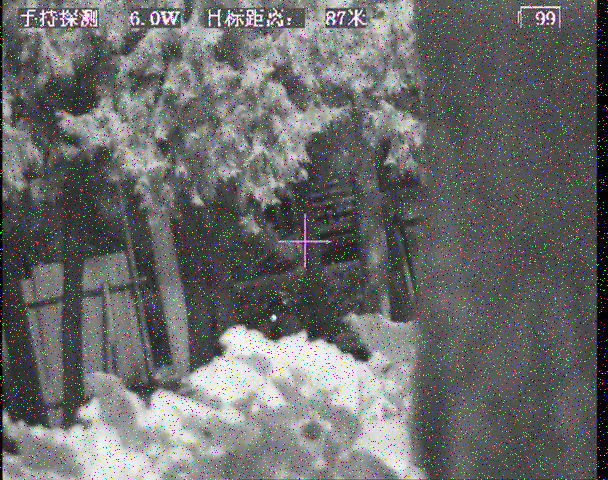my: (269, 313, 279, 323)
